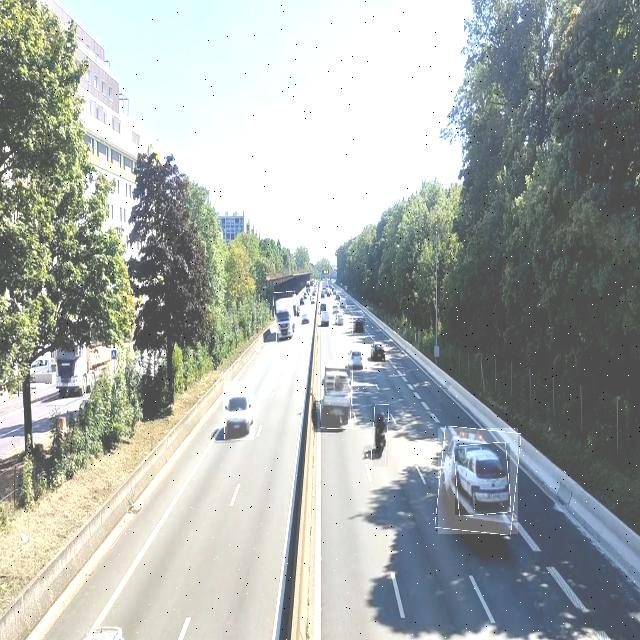Car: (455, 443, 510, 515), (224, 382, 254, 440), (347, 346, 365, 369), (370, 340, 386, 362), (352, 318, 365, 334), (321, 312, 330, 326), (301, 313, 311, 325), (337, 311, 344, 326), (330, 304, 339, 314), (340, 296, 347, 308)
Motorcycle: (372, 404, 388, 467)
Truck: (438, 428, 518, 534), (321, 361, 353, 429), (274, 292, 298, 343)
